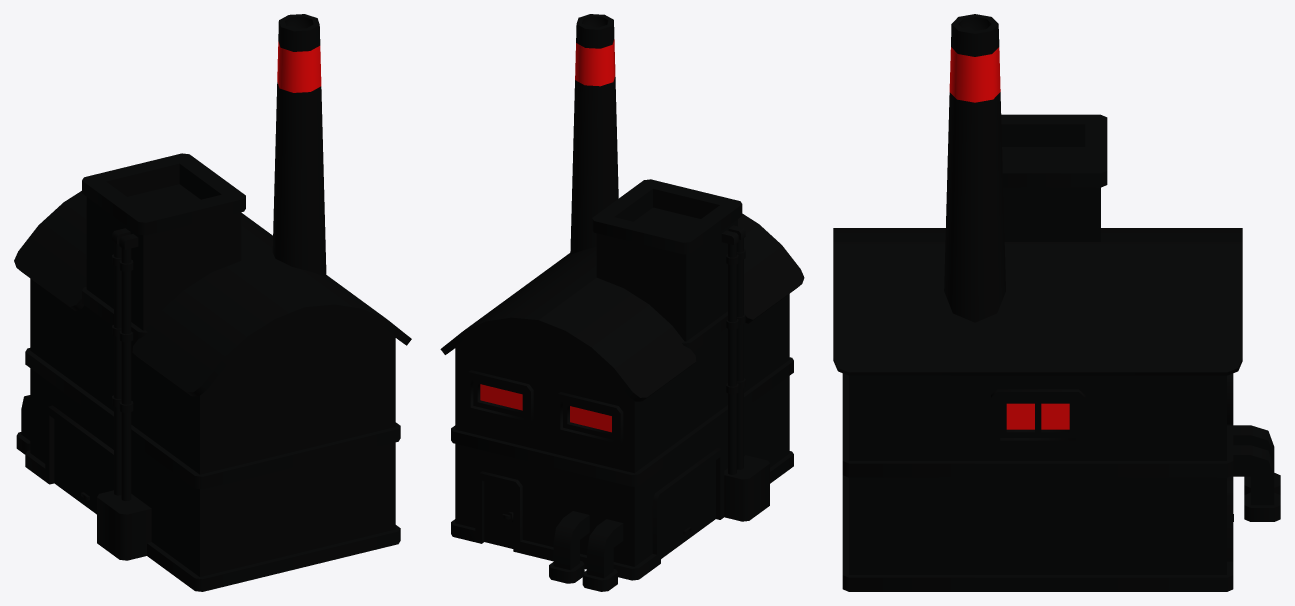
File: building-n.glb
3 renders of one model, left to right at view 1: azimuth 30°, elevation 25°; view 2: azimuth 150°, elevation 25°; view 3: azimuth 270°, elevation 25°, orthographic. The views are drawn at different scales.
Parts seen in each view (by area): view 1: building-n; view 2: building-n; view 3: building-n.
Boxes of the visible parts, x1=… form: building-n: x1=14, y1=14, x2=411, y2=591; building-n: x1=440, y1=14, x2=804, y2=591; building-n: x1=833, y1=14, x2=1280, y2=591.
Size of the model in its own units: 0.9771 by 1.9 by 1.42.
1 material, 1 textured.
